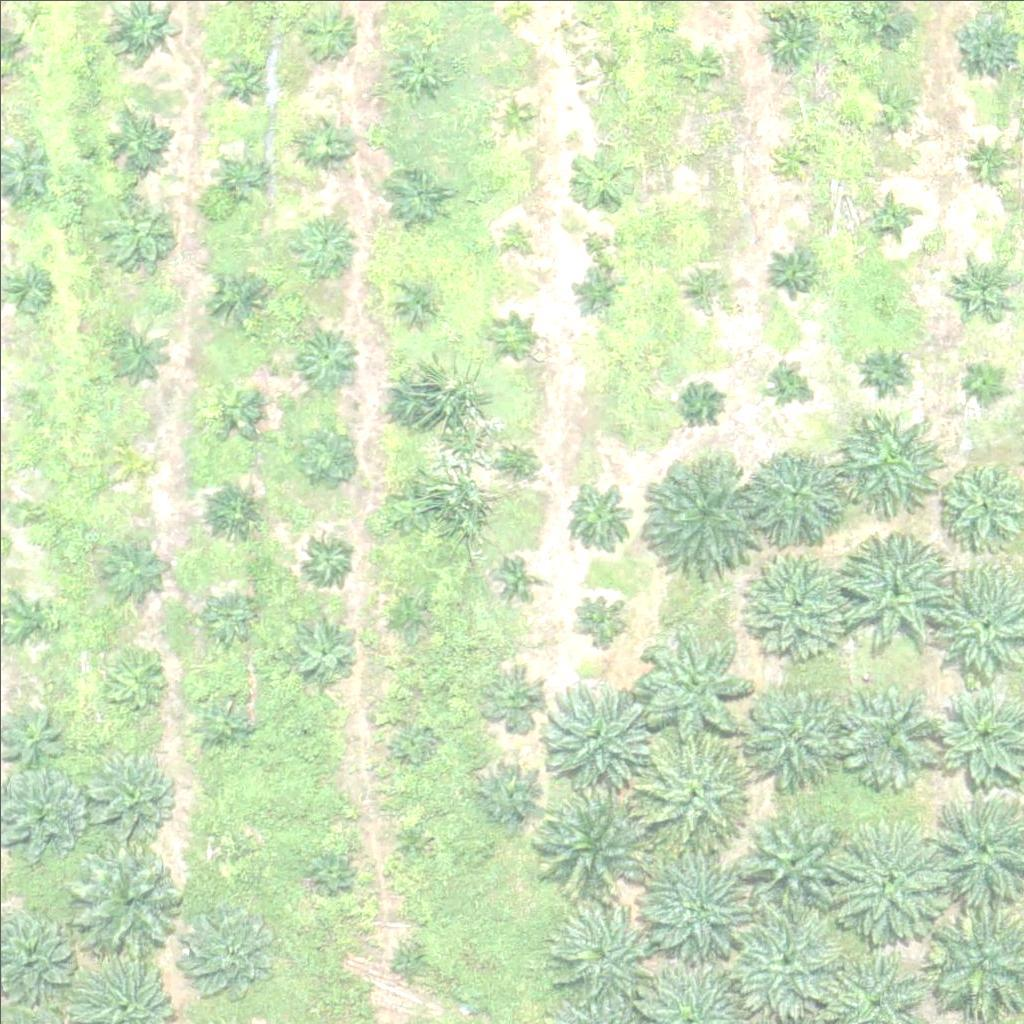Kelapa_Sawit: (723, 885, 848, 1011), (636, 834, 761, 960), (524, 766, 649, 892), (830, 527, 955, 653), (823, 815, 948, 940), (634, 447, 759, 572), (76, 845, 189, 958), (634, 632, 747, 745), (745, 546, 858, 659), (538, 672, 650, 785), (634, 737, 746, 850), (837, 396, 949, 509), (549, 896, 649, 997), (179, 901, 279, 1002), (748, 447, 848, 548), (742, 682, 842, 783), (843, 683, 943, 784), (751, 812, 838, 901), (83, 746, 170, 834), (292, 416, 367, 492), (560, 481, 635, 556), (300, 1, 363, 64), (295, 208, 358, 271), (954, 248, 1017, 311), (382, 165, 445, 228), (952, 12, 1015, 75), (386, 35, 449, 98), (381, 365, 444, 428), (485, 666, 548, 729), (475, 764, 538, 827), (101, 536, 164, 599), (202, 481, 265, 544), (192, 691, 255, 754), (297, 324, 359, 387), (207, 264, 269, 327), (107, 107, 169, 170), (104, 198, 167, 260), (99, 319, 161, 382), (758, 8, 820, 71), (296, 622, 358, 685), (102, 646, 164, 709), (568, 147, 630, 210), (390, 273, 440, 324), (860, 3, 910, 54), (571, 588, 621, 639), (6, 598, 56, 649), (383, 479, 433, 530), (964, 138, 1014, 189), (301, 115, 351, 165), (209, 385, 259, 435), (2, 264, 52, 314), (860, 346, 910, 396), (766, 248, 816, 298), (301, 533, 351, 583), (207, 592, 257, 642), (570, 269, 620, 319), (670, 44, 720, 94), (867, 84, 917, 134), (959, 351, 1009, 401), (221, 53, 270, 104), (488, 316, 526, 354), (681, 388, 719, 426), (395, 725, 433, 763), (391, 823, 429, 861), (390, 942, 428, 980), (388, 599, 426, 637), (495, 215, 533, 253), (497, 96, 535, 134), (773, 142, 811, 180), (870, 197, 908, 235), (765, 362, 802, 400), (205, 830, 243, 867), (223, 157, 260, 195), (310, 849, 347, 887), (688, 264, 725, 302), (676, 135, 713, 173), (498, 555, 535, 592), (494, 445, 531, 482), (13, 387, 38, 412), (13, 503, 38, 528), (118, 449, 143, 474), (291, 712, 316, 737)
